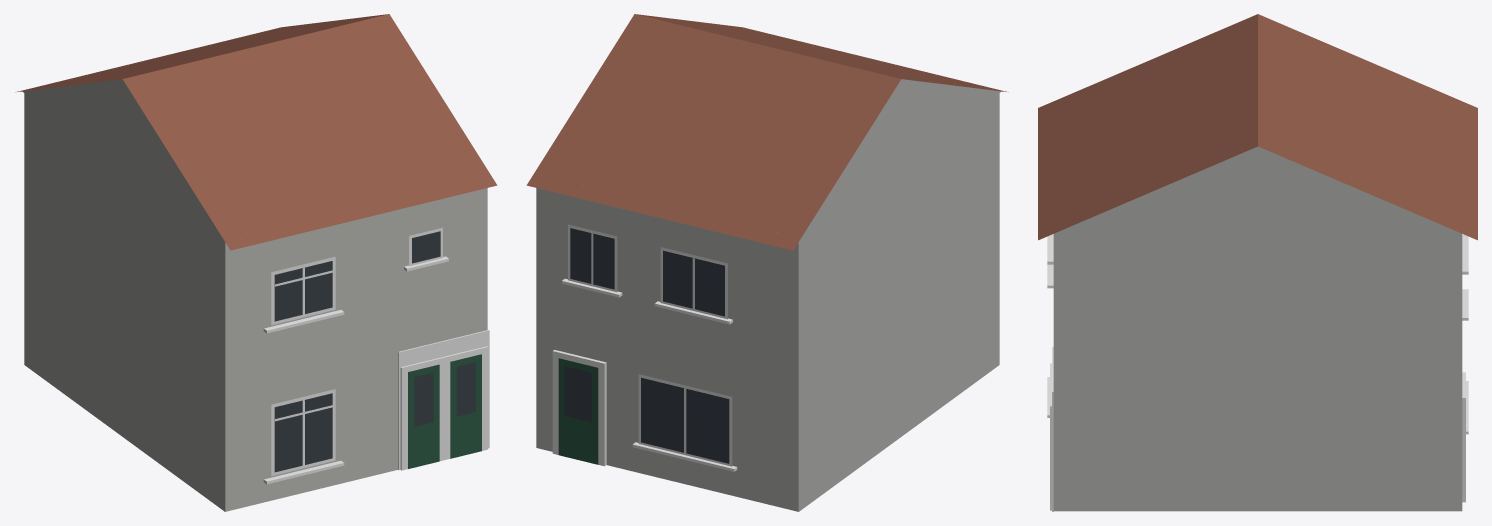
Rendered from nd-td-pomona__grey__2__gable__long__solid__f1d0.glb.
3 renders of one model, left to right at view 1: azimuth 30°, elevation 25°; view 2: azimuth 150°, elevation 25°; view 3: azimuth 270°, elevation 25°, orthographic.
Visible parts, largest first — view 1: nd-td-pomona__grey__2__gable__long__solid__f1d0; view 2: nd-td-pomona__grey__2__gable__long__solid__f1d0; view 3: nd-td-pomona__grey__2__gable__long__solid__f1d0.
Part boxes in pixels (left/top/right/bottom): nd-td-pomona__grey__2__gable__long__solid__f1d0: left=15, top=14, right=497, bottom=511; nd-td-pomona__grey__2__gable__long__solid__f1d0: left=526, top=14, right=1008, bottom=511; nd-td-pomona__grey__2__gable__long__solid__f1d0: left=1038, top=14, right=1477, bottom=511.
Bounding box in the file's own units: 6.04 × 7.79 × 8.48.
